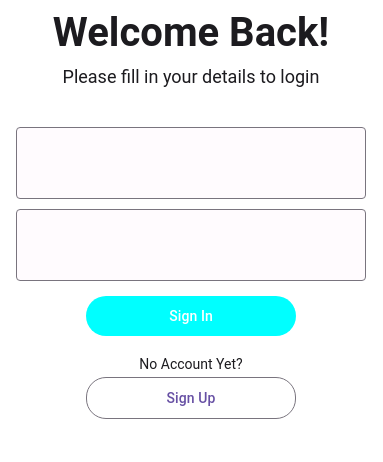
Test: shows an error message when password is incorrect
The image size is (383, 462).
Type "test@example.com" into the field with placeholder "Email". click: (191, 163)
box: [16,135,366,191]
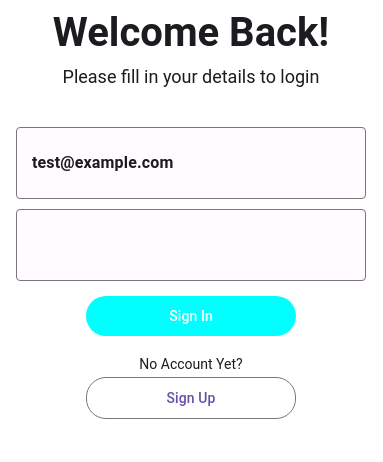
Type "incorrect_password" into the password field with placeholder "Password". click: (191, 245)
box: [16,217,366,273]
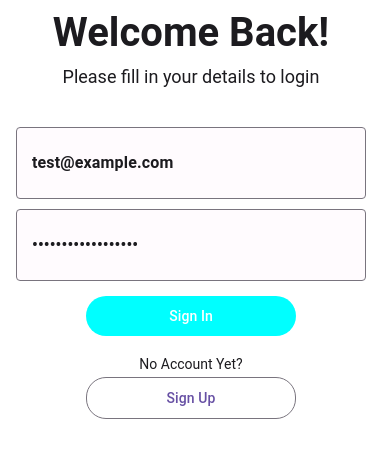
Click the button "Sign In". click: (191, 316)
box: [86,296,296,336]
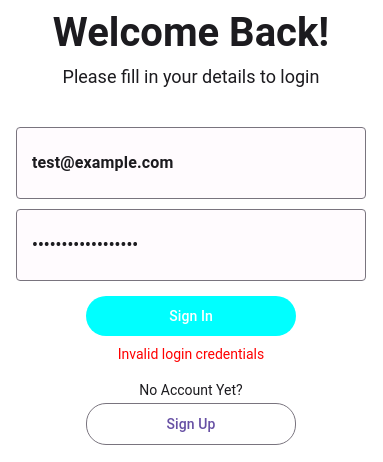
Expected: the text "Invalid login credentials" is shown, [118,346,264,362]
